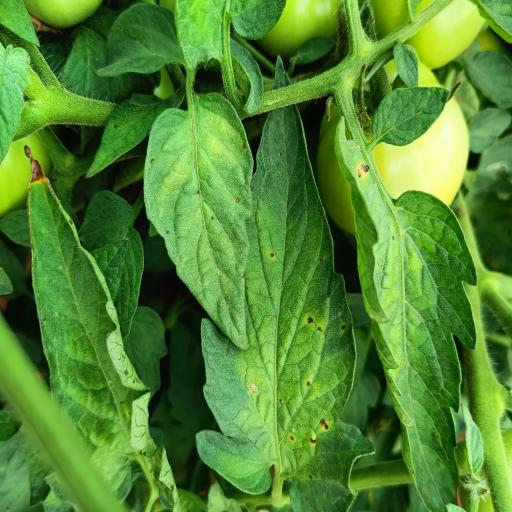Early Blight: (198, 53, 376, 512), (22, 141, 184, 512), (331, 119, 480, 512), (140, 87, 257, 351)
